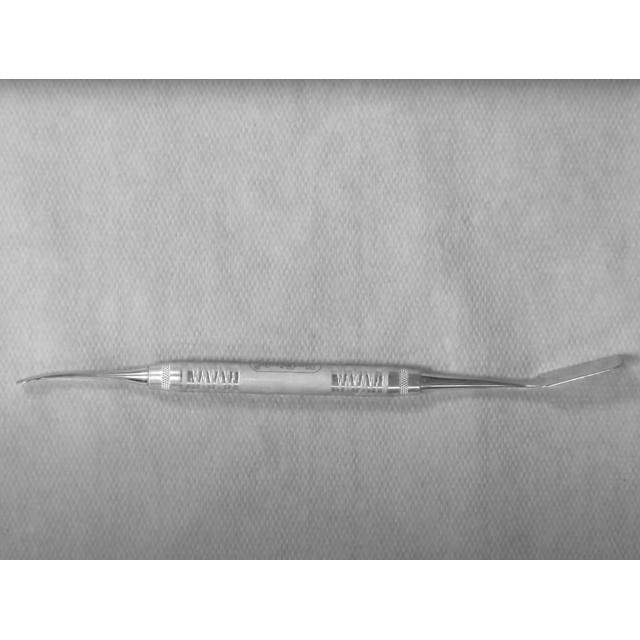elevador: (23, 356, 635, 400)
